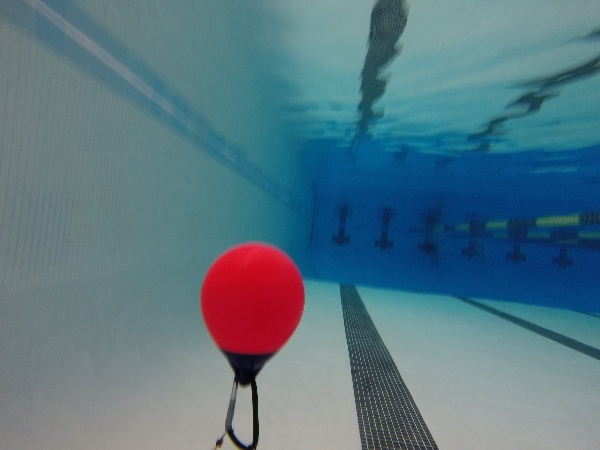buoy_red: (197, 240, 309, 392)
